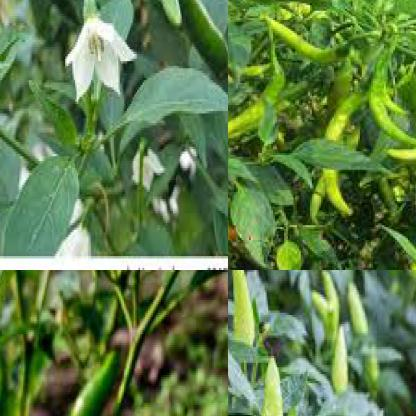Green Chilli: (157, 0, 227, 86), (308, 126, 364, 226), (228, 66, 288, 152), (262, 14, 349, 66), (63, 349, 126, 415), (323, 87, 354, 212), (365, 79, 415, 148), (398, 147, 415, 269), (228, 270, 255, 343), (257, 353, 288, 415), (385, 105, 415, 167), (347, 281, 372, 340), (321, 270, 340, 336), (330, 326, 348, 394), (311, 288, 327, 338)
